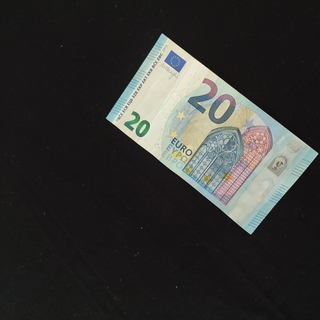20EUROFront: (104, 32, 318, 234)
